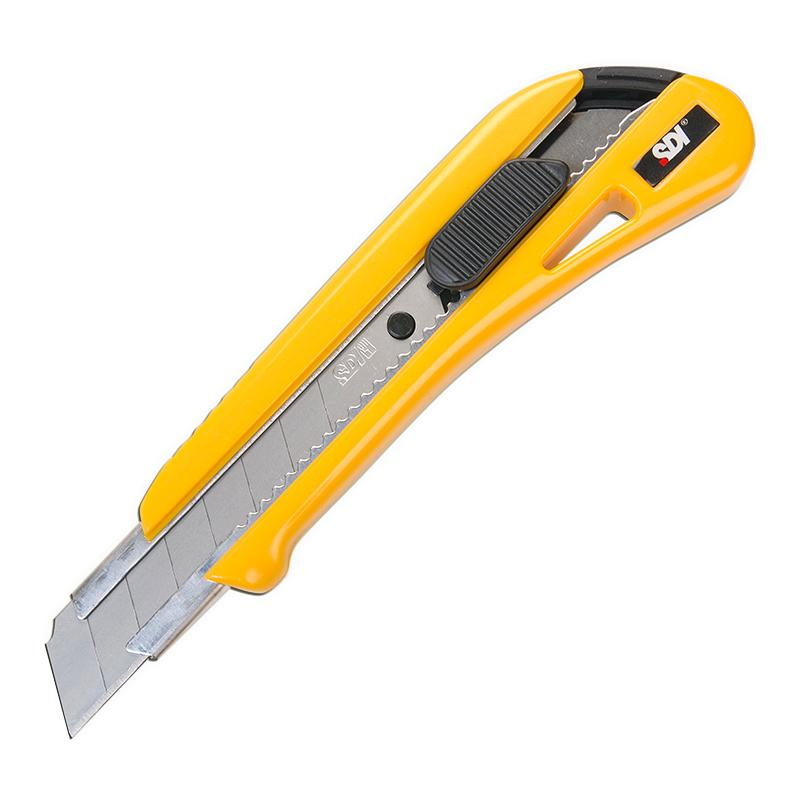cutter: (41, 65, 754, 742)
